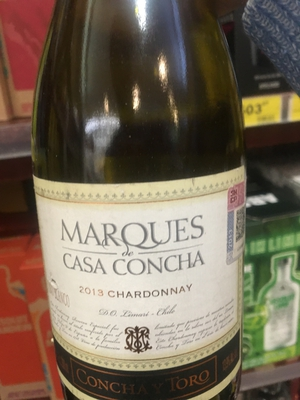marques de casa concha chardonnay: (33, 6, 256, 400)
